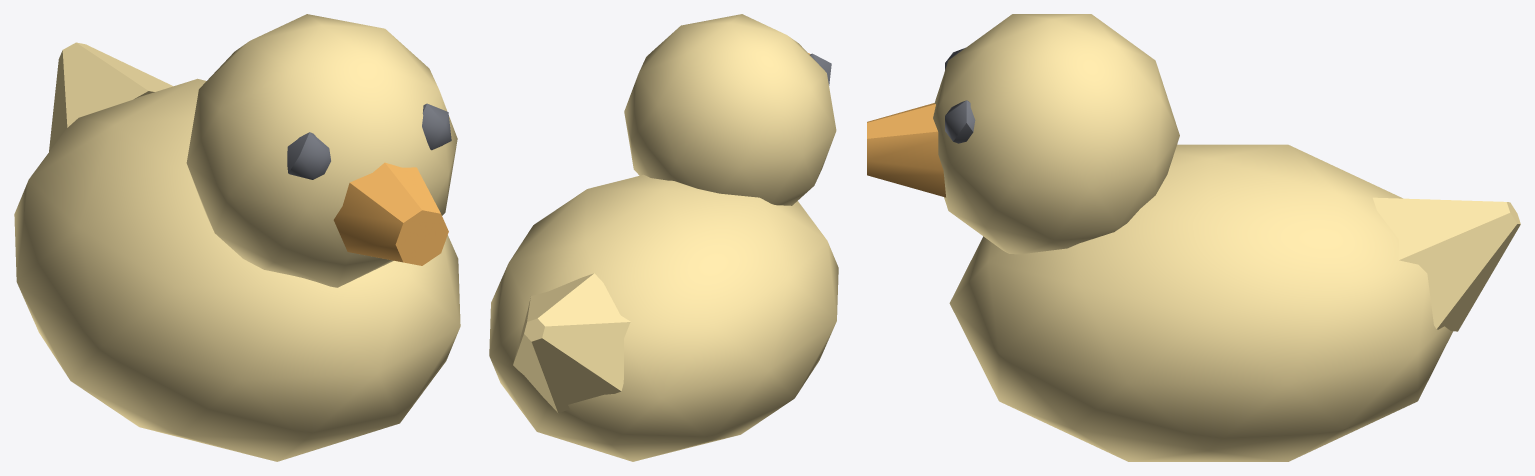
Rendered from RubberDuck.fbx.
3 renders of one model, left to right at view 1: azimuth 30°, elevation 25°; view 2: azimuth 150°, elevation 25°; view 3: azimuth 270°, elevation 25°, orthographic. The views are drawn at different scales.
Visible parts, largest first — view 1: RubberDuck; view 2: RubberDuck; view 3: RubberDuck.
Part boxes in pixels (x1,y1,x2,y2): RubberDuck: (14,14,460,461); RubberDuck: (489,14,838,461); RubberDuck: (867,14,1520,461).
Bounding box in the file's own units: 0.1331 × 0.166 × 0.2298.
